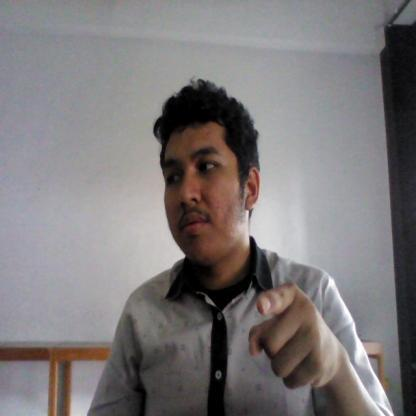Kamu: (240, 278, 360, 401)
